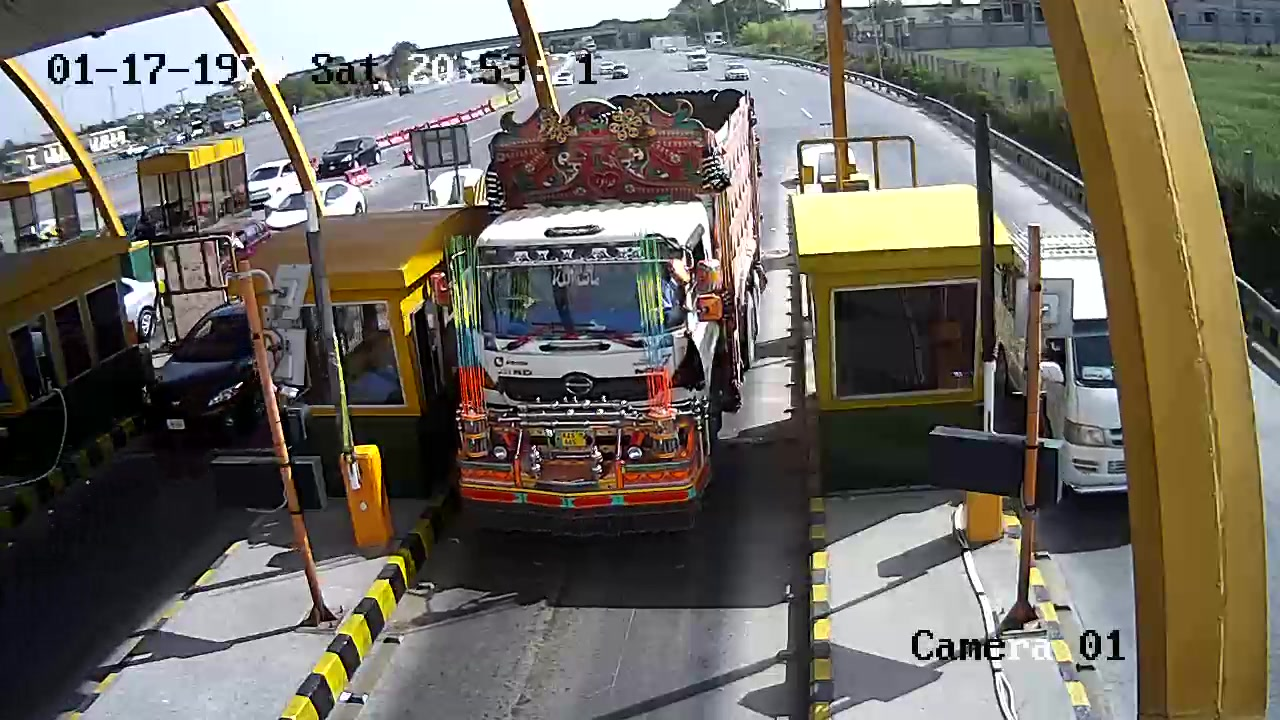F5: (449, 83, 765, 534)
